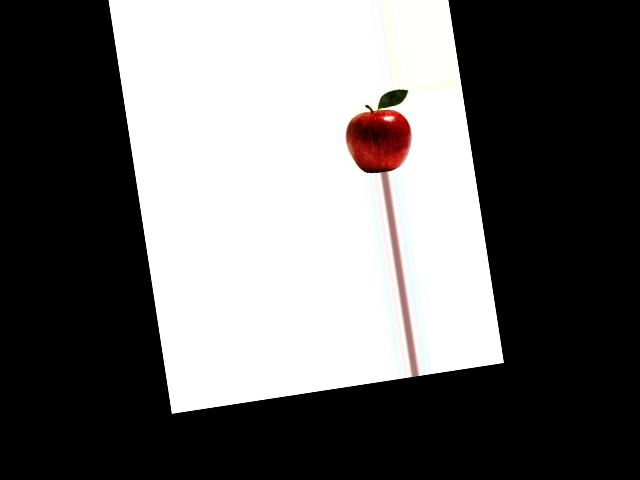apple: (340, 101, 420, 177)
